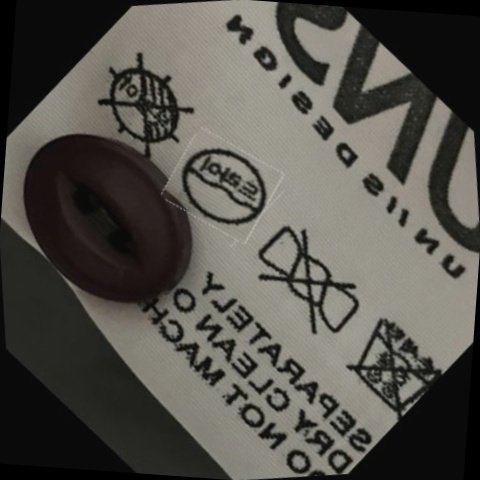DN_dry: (91, 50, 200, 161)
DN_wring: (246, 222, 370, 345)
dry_clean: (173, 136, 272, 238)
hand_wash: (339, 305, 443, 418)
